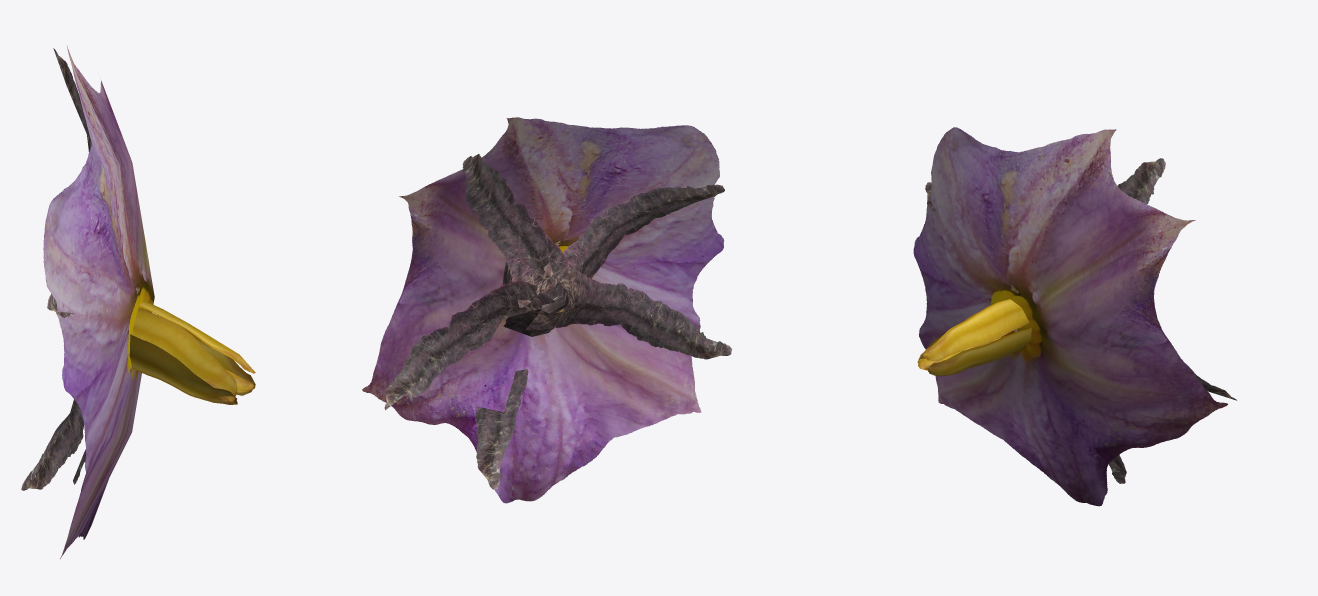
The model's file is VG19_9_clip1flwrornot.obj.
3 renders of one model, left to right at view 1: azimuth 30°, elevation 25°; view 2: azimuth 150°, elevation 25°; view 3: azimuth 270°, elevation 25°, orthographic. The views are drawn at different scales.
Bounding box in the file's own units: 0.0229 × 0.0404 × 0.0333.
4 materials, 4 textured.
